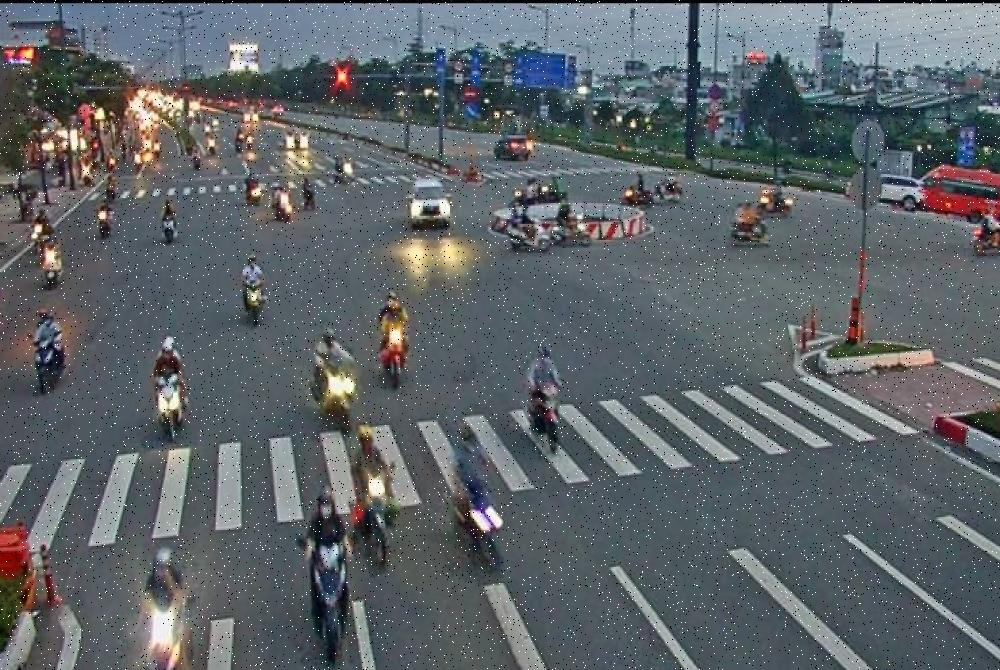car: (406, 176, 456, 232)
